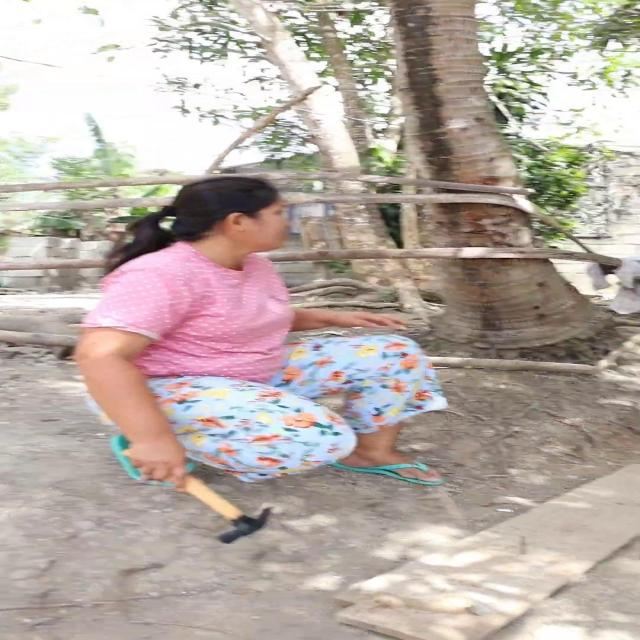hammer: (124, 448, 273, 544)
